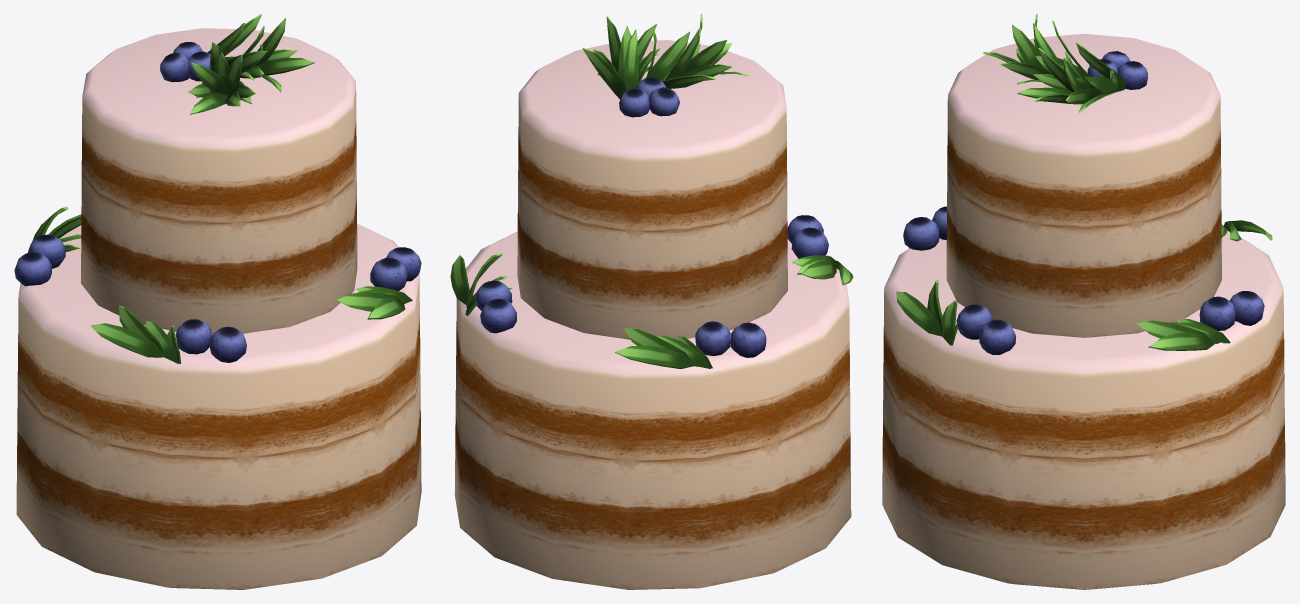
Rendered from Wedding_04_Whole.fbx.
3 views of the same model, side by side, from view 1: azimuth 30°, elevation 25°; view 2: azimuth 150°, elevation 25°; view 3: azimuth 270°, elevation 25° (orthographic). The views are drawn at different scales.
Parts seen in each view (by area): view 1: Wedding_04_Whole; view 2: Wedding_04_Whole; view 3: Wedding_04_Whole.
Boxes of the visible parts, x1=… form: Wedding_04_Whole: x1=14, y1=14, x2=421, y2=589; Wedding_04_Whole: x1=450, y1=14, x2=853, y2=589; Wedding_04_Whole: x1=882, y1=14, x2=1285, y2=589.
Bounding box in the file's own units: 112 × 148 × 112.
